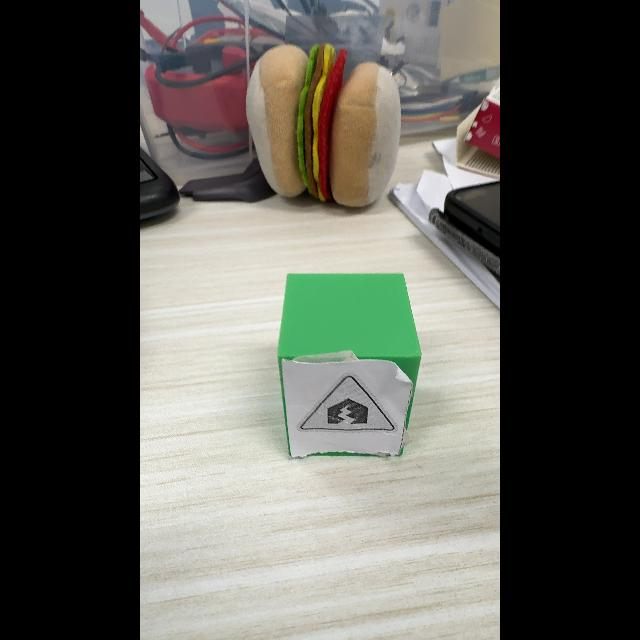Earthquake: (298, 374, 395, 432)
